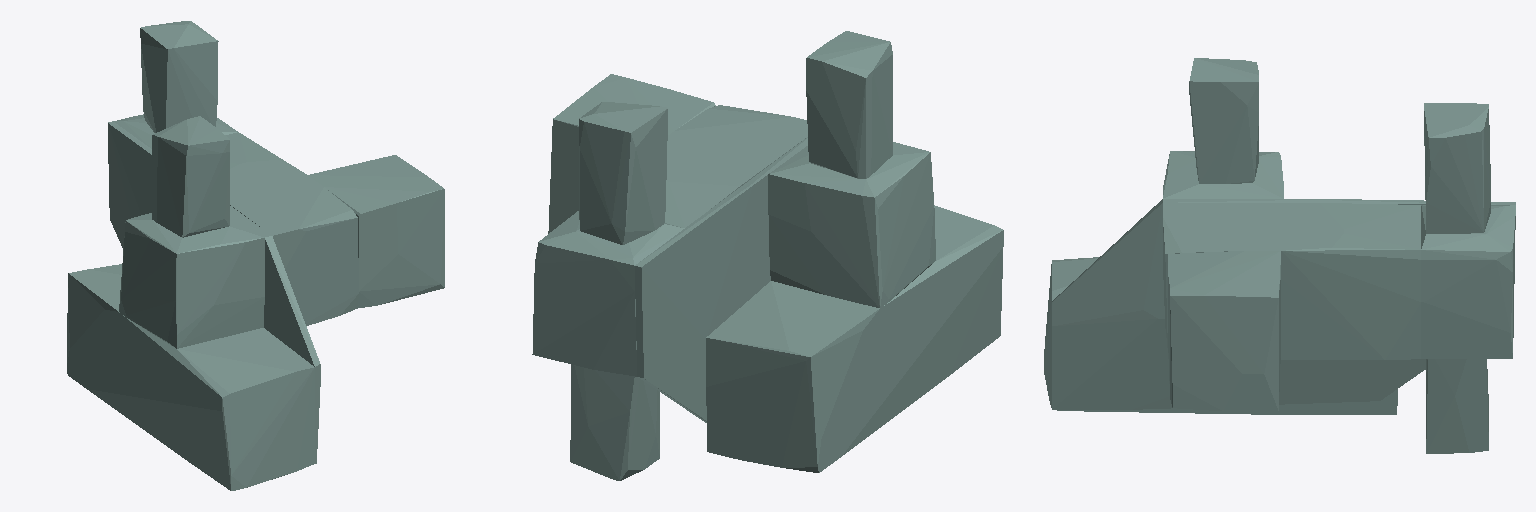
The robot description file, URDF, robot "blob699":
<robot name="blob699">
  <link name="random_obj_699">
    <contact>
      <lateral_friction value="1.0"/>
      <rolling_friction value="0.0"/>
      <inertia_scaling value="3.0"/>
      <contact_cfm value="0.0"/>
      <contact_erp value="1.0"/>
    </contact>
    <inertial>
      <origin rpy="0 0 0" xyz="0 0 0"/>
      <mass value="0.1"/>
      <inertia ixx="1" ixy="0" ixz="0" iyy="1" iyz="0" izz="0"/>
    </inertial>
    <visual>
      <origin rpy="0 0 0" xyz="0 0 0"/>
      <geometry>
        <mesh filename="699.obj" scale="0.015 0.015 0.015"/>
      </geometry>
      <material name="blockmat">
        <color rgba="0.54 0.64 0.62 1"/>
      </material>
    </visual>
    <collision>
      <origin rpy="0 0 0" xyz="0 0 0"/>
      <geometry>
        <mesh filename="699.obj" scale="0.015 0.015 0.015"/>
      </geometry>
    </collision>
  </link>
</robot>

--- What the picture shows (computed from the rendered views, not written in the file) ---
Views: 3 orthographic renders of the robot side by side, from view 1: azimuth 30°, elevation 25°; view 2: azimuth 150°, elevation 25°; view 3: azimuth 270°, elevation 25°.
Model blob699 with 1 links and 0 joints (none), rooted at random_obj_699, posed all joints at 0.
Visible links, largest first — view 1: random_obj_699; view 2: random_obj_699; view 3: random_obj_699.
Link boxes in pixels (x1=…): random_obj_699: x1=67, y1=21, x2=444, y2=490; random_obj_699: x1=532, y1=31, x2=1003, y2=480; random_obj_699: x1=1044, y1=58, x2=1515, y2=453.
Bounding box of the posed robot: 0.0927 × 0.1222 × 0.0933 m (x, y, z).
Meshes: 1 distinct files referenced, 1 mesh visuals loaded (1 OBJ).